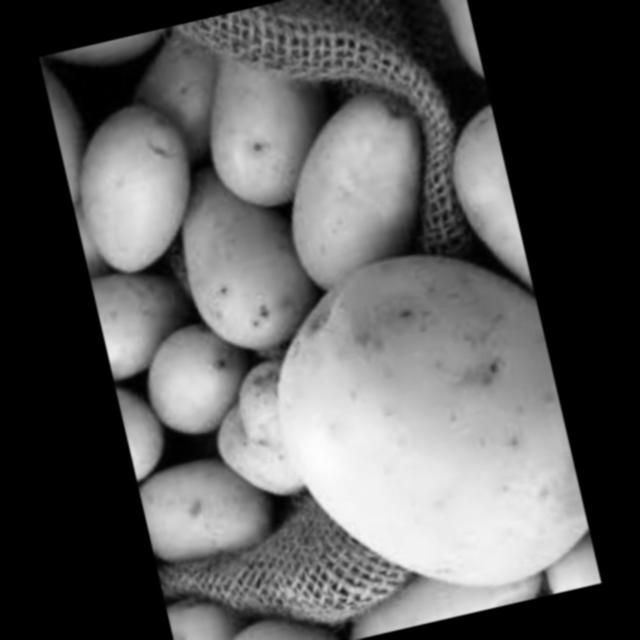potato: (256, 231, 599, 640), (245, 83, 462, 350), (53, 78, 214, 300), (163, 152, 324, 366), (185, 28, 342, 230), (416, 94, 539, 336), (134, 444, 286, 590), (193, 348, 315, 526), (132, 310, 248, 453), (89, 266, 185, 372), (110, 361, 182, 496), (205, 583, 347, 640), (161, 577, 249, 640)
